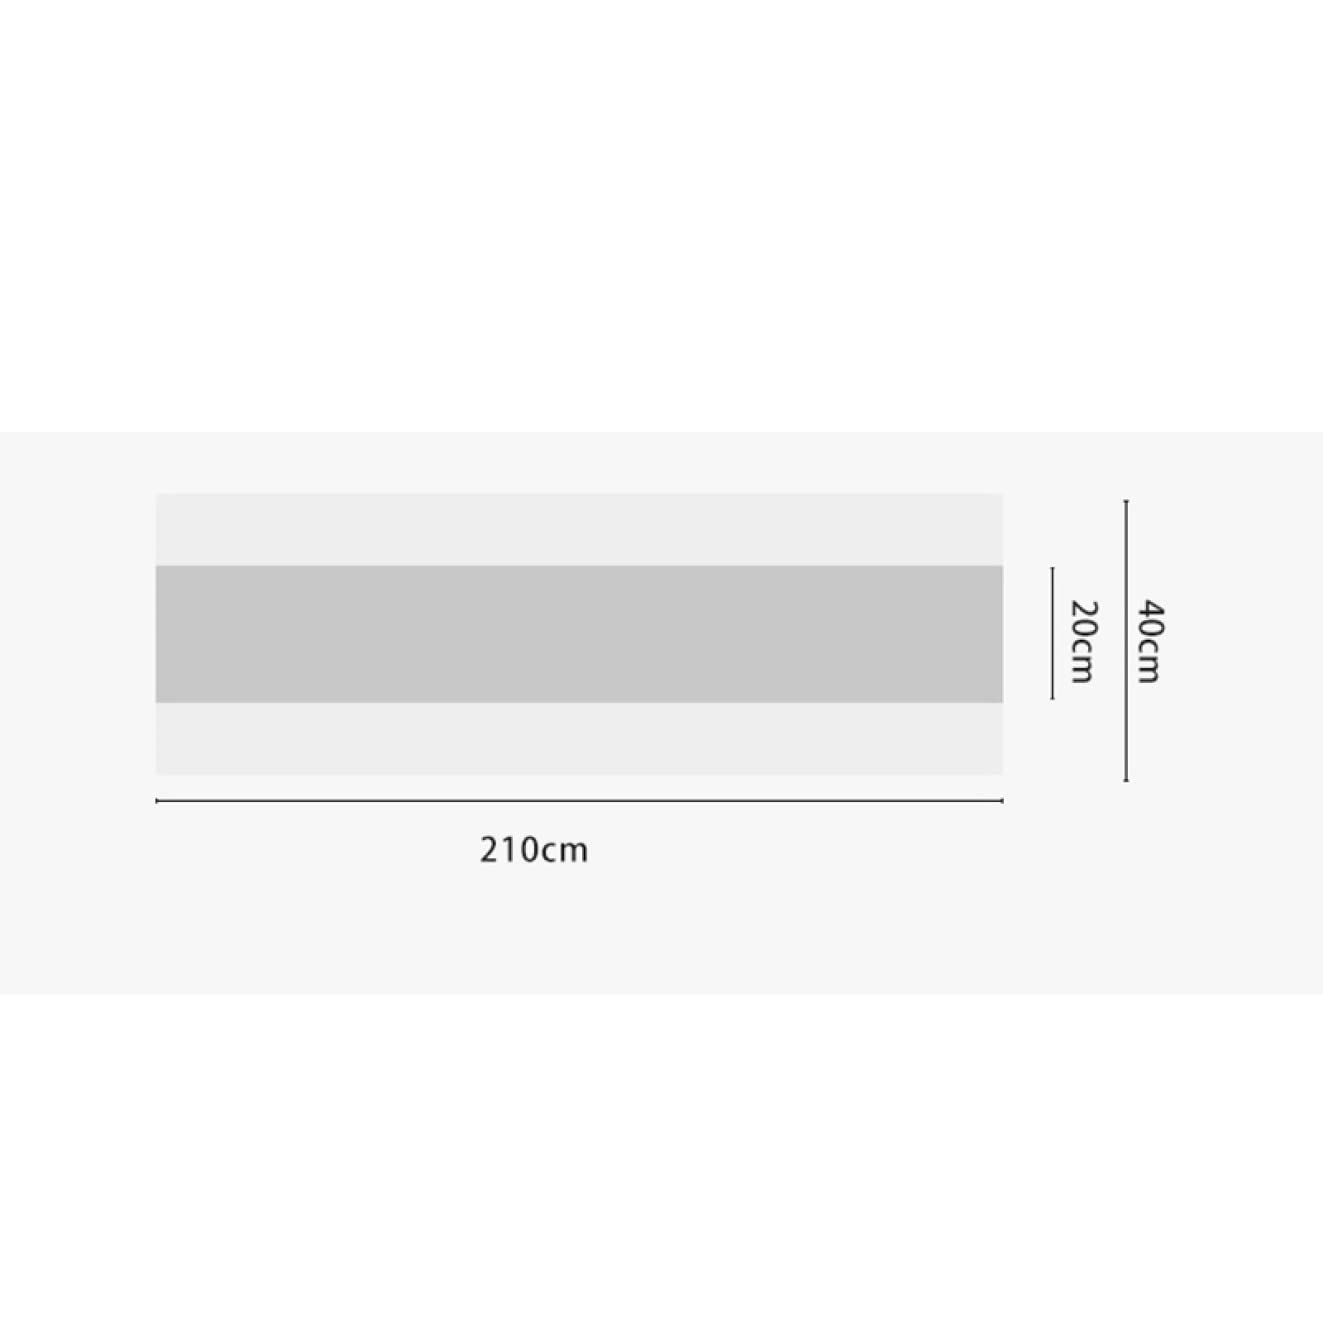20cm: (1071, 600, 1099, 683)
210cm: (480, 835, 588, 863)
